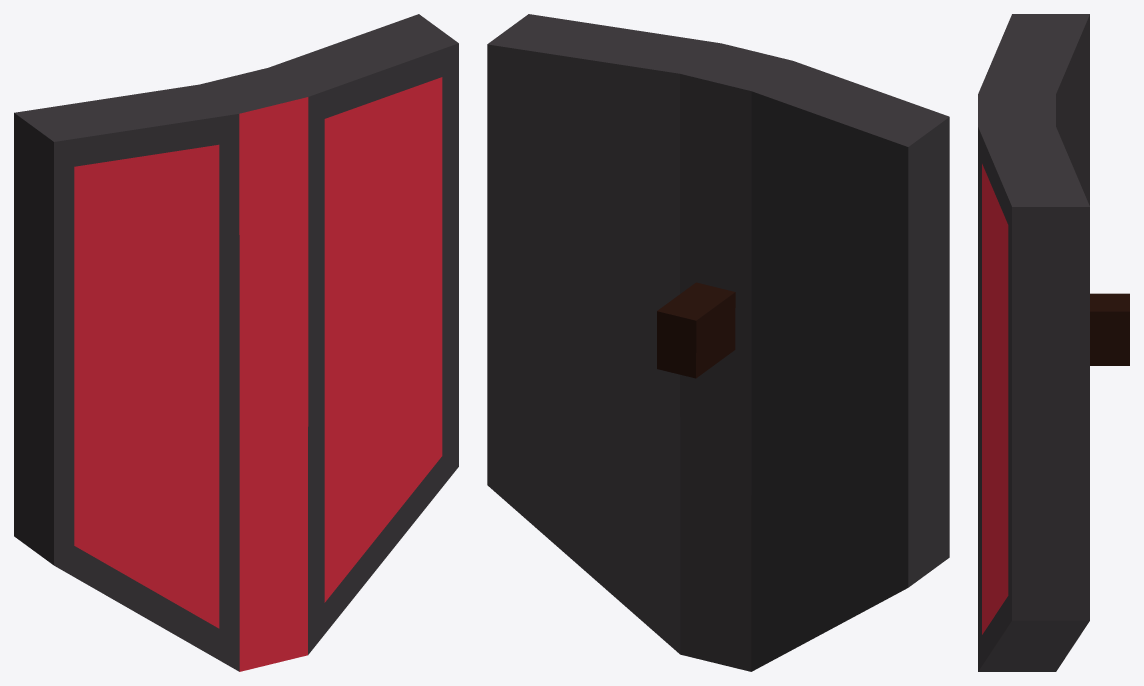
The model's file is Shield.fbx.
3 renders of one model, left to right at view 1: azimuth 30°, elevation 25°; view 2: azimuth 150°, elevation 25°; view 3: azimuth 270°, elevation 25°, orthographic. The views are drawn at different scales.
Visible parts, largest first — view 1: Small shield.002; view 2: Small shield.002; view 3: Small shield.002.
Part boxes in pixels (left/top/right/bottom): Small shield.002: left=14, top=14, right=458, bottom=671; Small shield.002: left=487, top=14, right=949, bottom=671; Small shield.002: left=978, top=14, right=1129, bottom=671.
Size of the model in its own units: 2 by 0.6647 by 2.64.
